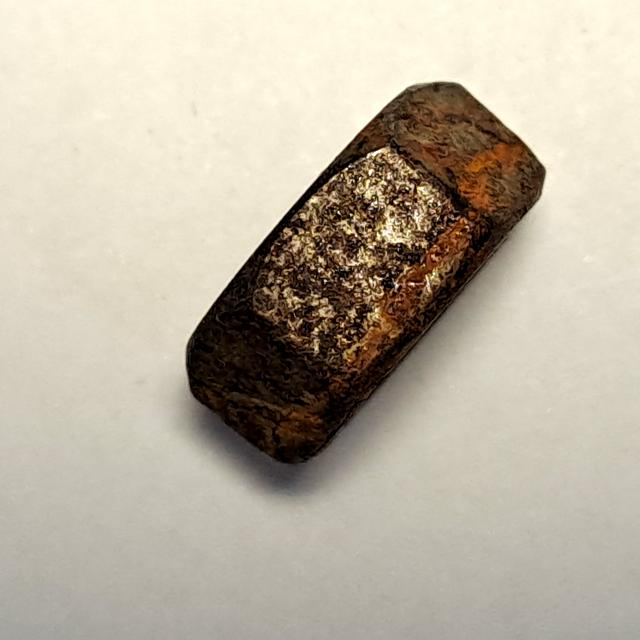Side_Rust: (175, 75, 561, 485)
